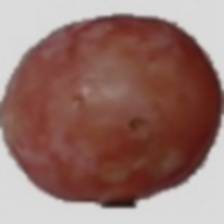grapes: (16, 26, 205, 179)
